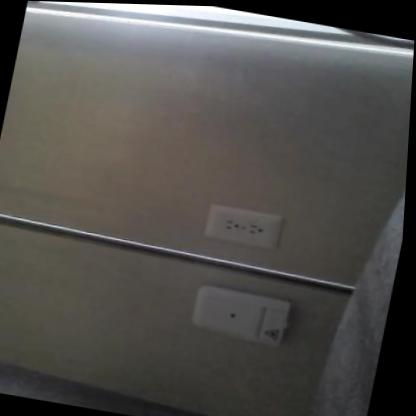OUTLET: (203, 202, 282, 249)
